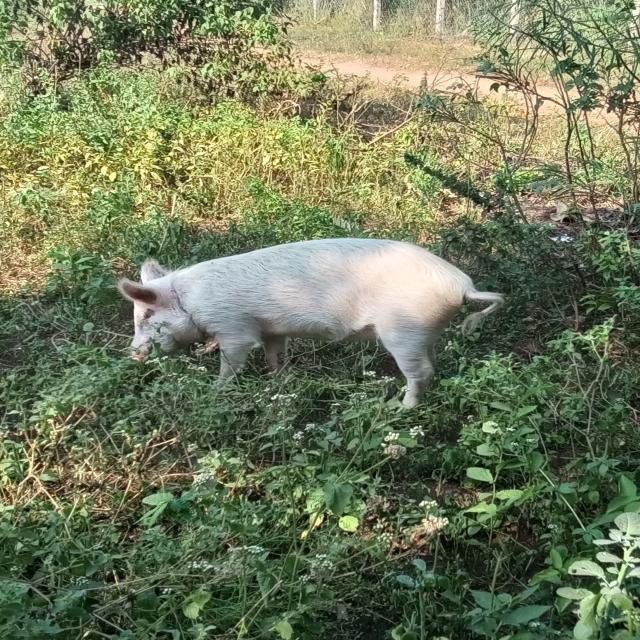pig: (76, 189, 557, 445)
